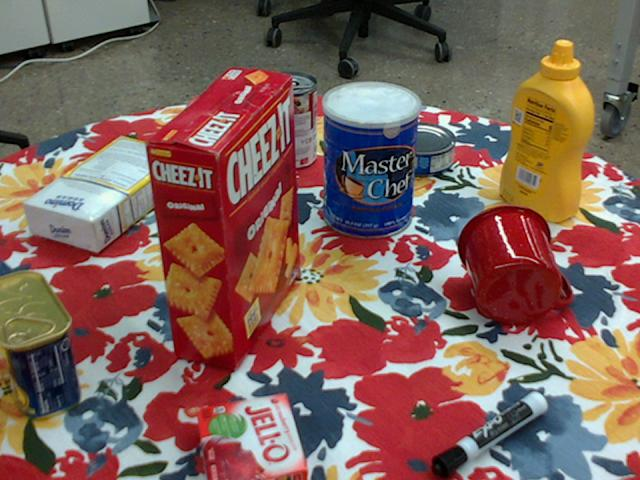cracker_box: (140, 67, 295, 370)
gelatin_box: (197, 393, 311, 479)
large_marker: (434, 390, 549, 476)
master_chef_can: (322, 81, 420, 239)
mug: (456, 203, 572, 324)
mustard_bottle: (498, 42, 592, 222)
potted_meat_can: (0, 269, 79, 418)
sugar_box: (22, 137, 186, 253)
tomato_soup_can: (260, 71, 317, 170)
tuna_fish_can: (388, 123, 457, 177)
